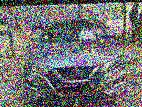car: (22, 15, 128, 106)
